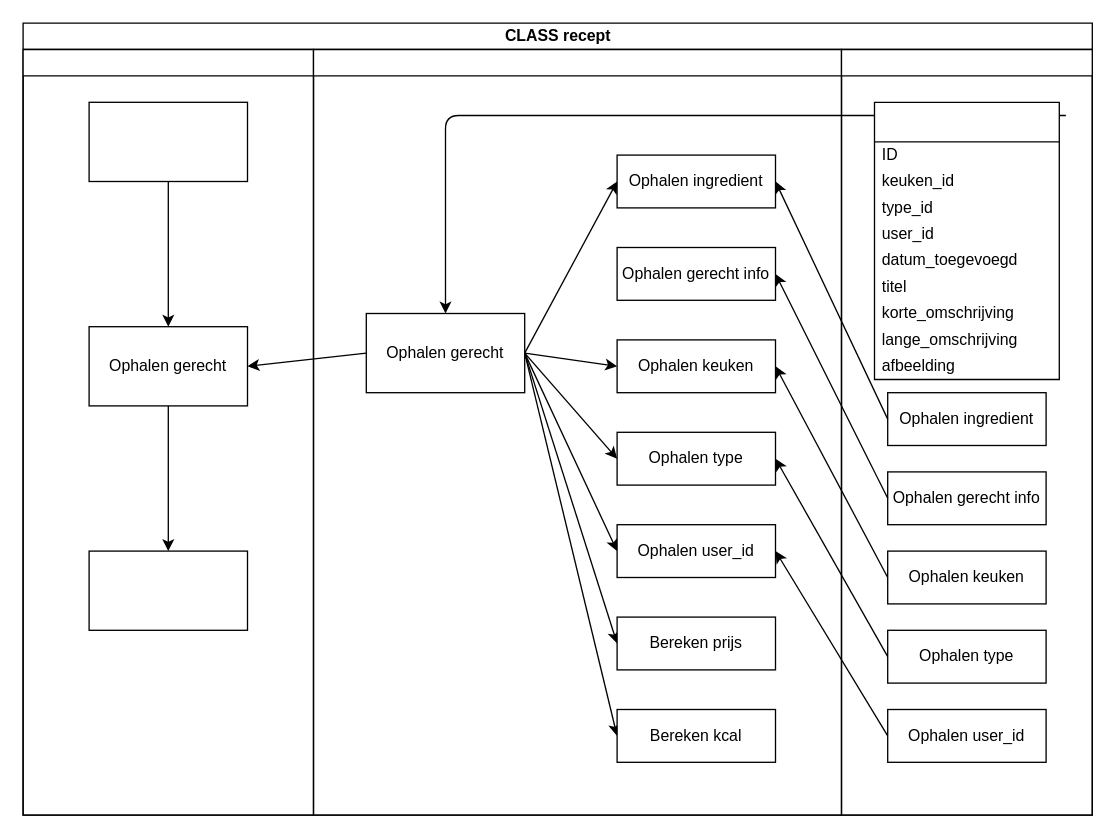
The diagram is 1115 pixels wide and 838 high, and some of its shapes have lost their labels. The shapes that lost their labels are listed below. From the top down, each one's box as (x1, y1, x2, y2) in pixels, then its label:
(88, 101, 248, 182): Initialisatie
(873, 101, 1059, 380): Gerecht
(22, 48, 314, 815): Controller
(312, 48, 842, 815): Business rules
(840, 48, 1092, 815): Model
(88, 550, 248, 630): Gerecht tonen
